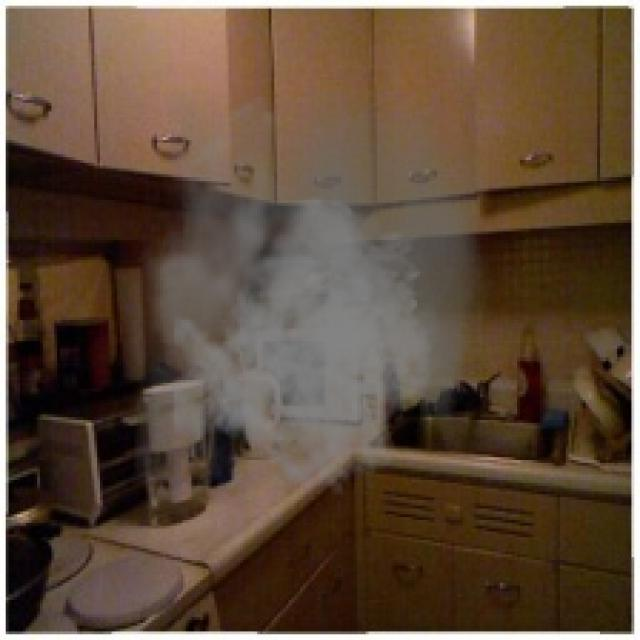smoke: (134, 92, 489, 497)
